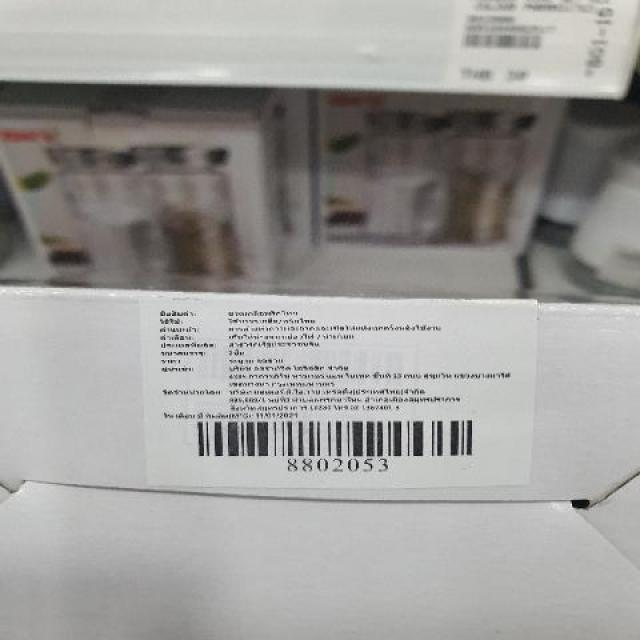Barcode: (184, 412, 485, 475)
